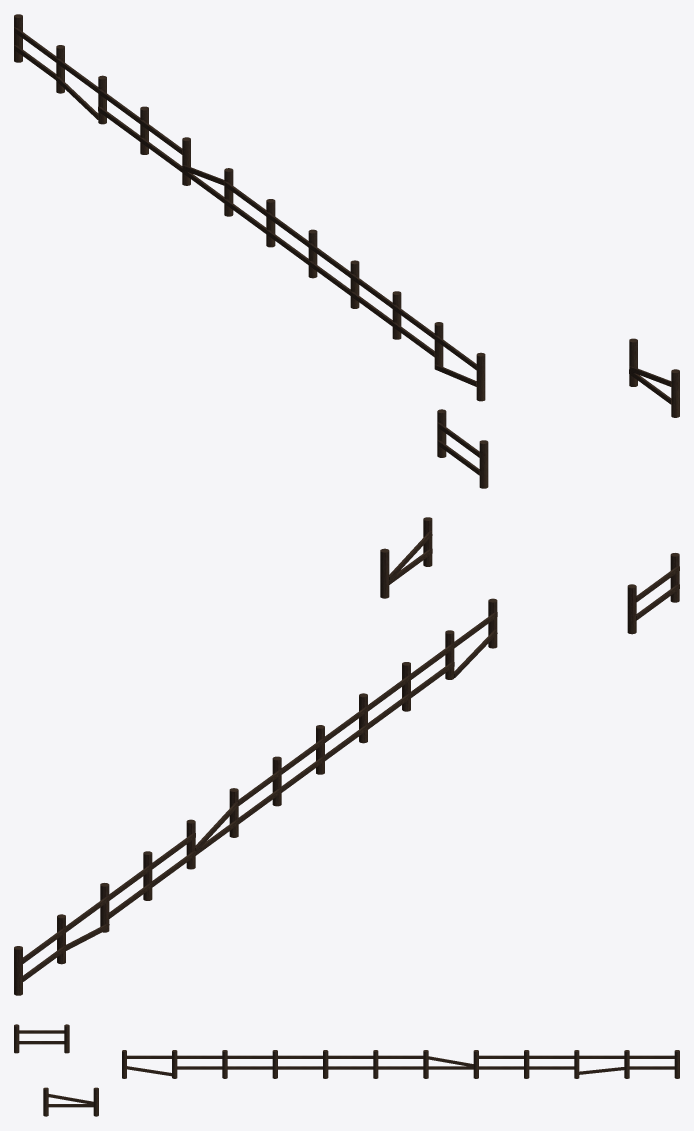
File: Zaun.FBX
The picture shows the model from 3 angles, top to bottom: view 1: azimuth 30°, elevation 25°; view 2: azimuth 150°, elevation 25°; view 3: azimuth 270°, elevation 25°; orthographic projection. The views are drawn at different scales.
Visible parts, largest first — view 1: Cylinder002, Cylinder013, Cylinder015; view 2: Cylinder002, Cylinder015, Cylinder013; view 3: Cylinder002, Cylinder013, Cylinder015.
Part boxes in pixels (x1=…): Cylinder002: x1=14, y1=14, x2=485, y2=401; Cylinder013: x1=437, y1=409, x2=488, y2=488; Cylinder015: x1=629, y1=338, x2=679, y2=417; Cylinder002: x1=14, y1=598, x2=497, y2=995; Cylinder015: x1=380, y1=517, x2=432, y2=598; Cylinder013: x1=627, y1=553, x2=679, y2=634; Cylinder002: x1=122, y1=1050, x2=679, y2=1078; Cylinder013: x1=14, y1=1024, x2=69, y2=1053; Cylinder015: x1=43, y1=1087, x2=98, y2=1116.
Size of the model in its own units: 207 by 39.37 by 887.
1 material, 1 textured.
